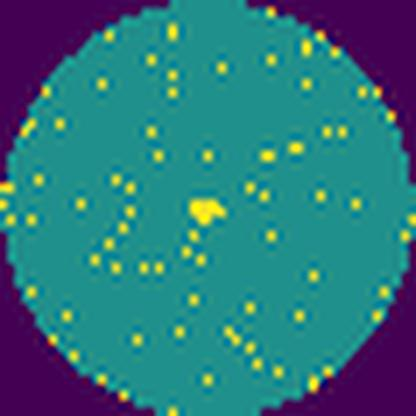Center: (190, 198, 227, 228)
